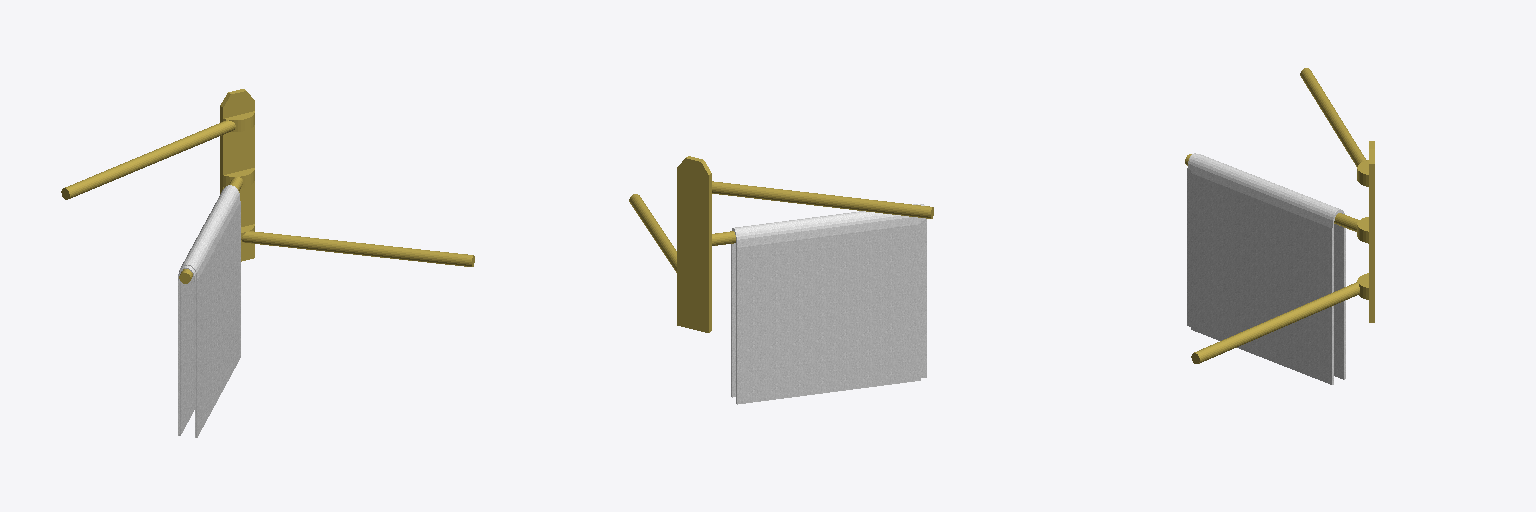
The picture shows the model from 3 angles: view 1: azimuth 30°, elevation 25°; view 2: azimuth 150°, elevation 25°; view 3: azimuth 270°, elevation 25°; orthographic projection.
Visible parts, largest first — view 1: 4_4, 1_1, 2_2, 6_6, 5_5; view 2: 4_4, 1_1, 6_6, 2_2, 5_5; view 3: 4_4, 2_2, 1_1, 6_6, 5_5.
Part boxes in pixels (bbox=[...]): 4_4: bbox=[179, 185, 240, 437]; 1_1: bbox=[220, 89, 254, 261]; 2_2: bbox=[241, 231, 474, 266]; 6_6: bbox=[61, 120, 235, 199]; 5_5: bbox=[178, 265, 195, 437]; 4_4: bbox=[731, 204, 920, 404]; 1_1: bbox=[677, 156, 711, 332]; 6_6: bbox=[712, 181, 933, 218]; 2_2: bbox=[629, 194, 676, 272]; 5_5: bbox=[920, 204, 926, 377]; 4_4: bbox=[1191, 154, 1345, 384]; 2_2: bbox=[1191, 282, 1359, 363]; 1_1: bbox=[1357, 141, 1374, 322]; 6_6: bbox=[1300, 68, 1366, 166]; 5_5: bbox=[1187, 153, 1197, 326].
Size of the model in its own units: 45 by 29.83 by 20.69.
2 materials, 1 textured.